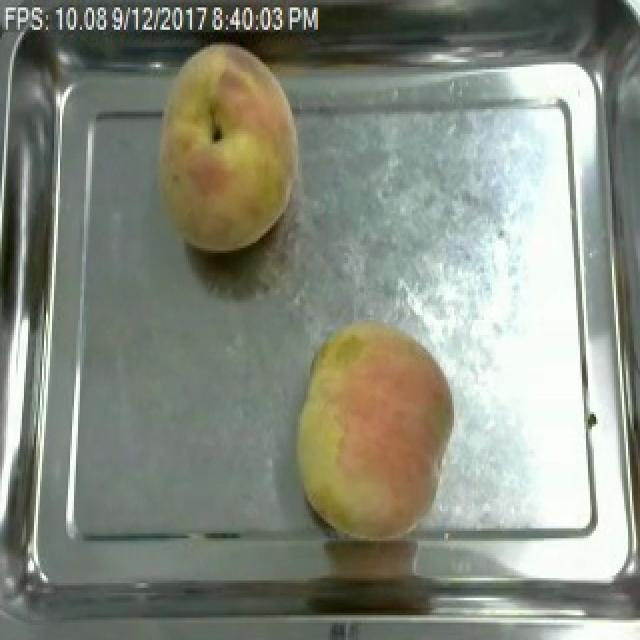Fruit: (284, 308, 462, 546), (144, 30, 312, 260)
